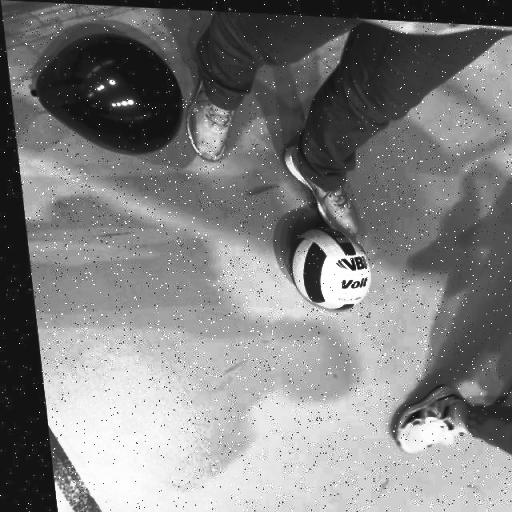balloon: (26, 28, 188, 158)
